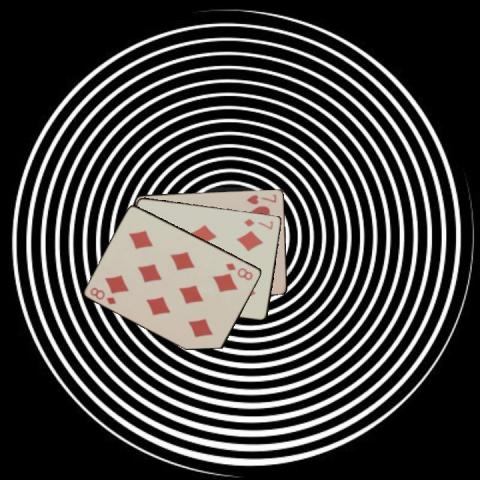7d: (241, 215, 275, 231)
7h: (243, 192, 278, 206)
8d: (223, 260, 255, 282), (88, 284, 118, 306)
